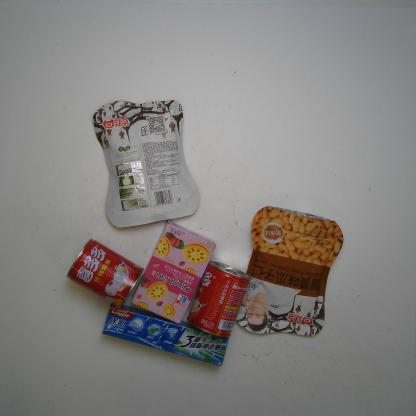Canned Food: (67, 238, 148, 305), (190, 260, 252, 338)
Dessert: (134, 221, 216, 324)
Dried Fruit: (90, 99, 202, 230), (237, 206, 345, 338)
Personal Hygiene: (100, 304, 228, 366)
